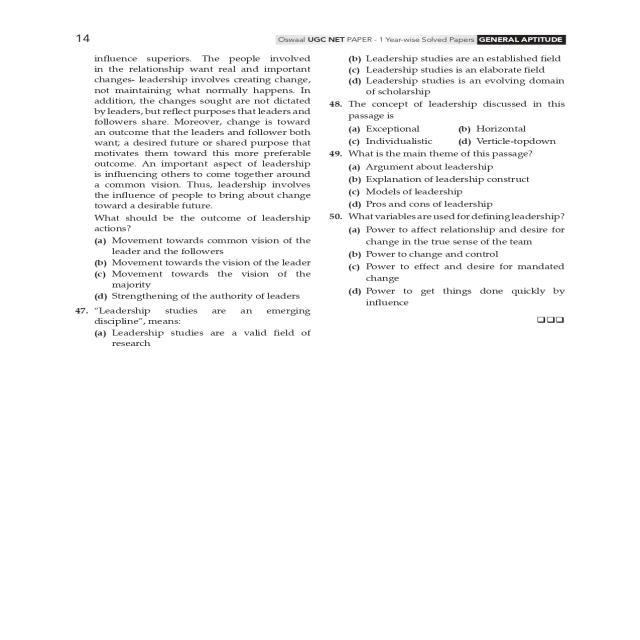Answer_Block: (332, 230, 594, 310), (62, 236, 325, 306), (332, 43, 594, 102), (332, 160, 594, 212), (332, 122, 594, 148)
Question_Answer_Block: (62, 50, 325, 305), (332, 211, 594, 310), (332, 147, 594, 210), (62, 305, 325, 364), (332, 43, 594, 102), (332, 99, 594, 148)
Question_Block: (62, 50, 325, 234), (332, 99, 594, 121), (332, 147, 594, 164), (332, 211, 594, 226)
Question_Paper_Area: (62, 46, 325, 507), (332, 43, 594, 504)
